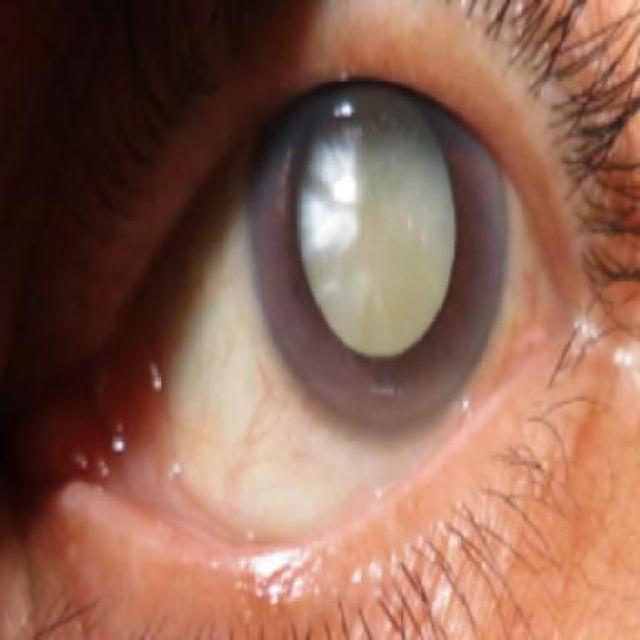Cataract: (237, 49, 512, 442)
